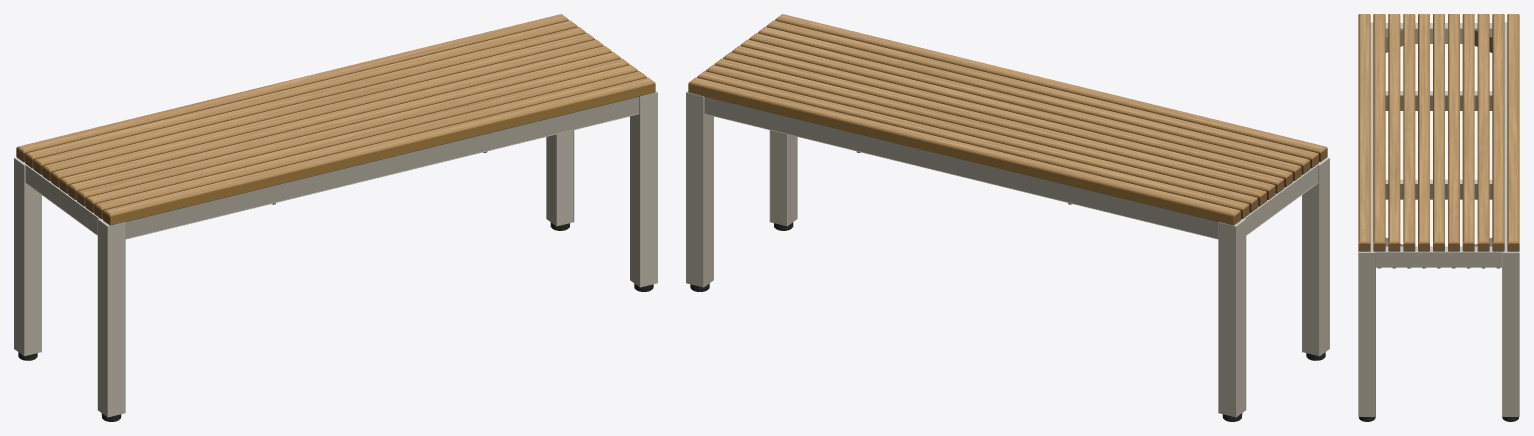
Rendered from snowpeak-garden-bench.glb.
3 views of the same model, side by side, from view 1: azimuth 30°, elevation 25°; view 2: azimuth 150°, elevation 25°; view 3: azimuth 270°, elevation 25° (orthographic). The views are drawn at different scales.
Parts seen in each view (by area): view 1: snowpeak-garden-bench-wood, snowpeak-garden-bench-edge, snowpeak-garden-bench-metal, snowpeak-garden-bench-rail, snowpeak-garden-bench-metal_side, snowpeak-garden-bench-side, snowpeak-garden-bench-face, snowpeak-garden-bench-metal_hi, snowpeak-garden-bench-end; view 2: snowpeak-garden-bench-wood, snowpeak-garden-bench-edge, snowpeak-garden-bench-metal, snowpeak-garden-bench-rail, snowpeak-garden-bench-metal_side, snowpeak-garden-bench-side, snowpeak-garden-bench-face, snowpeak-garden-bench-metal_hi, snowpeak-garden-bench-end; view 3: snowpeak-garden-bench-wood, snowpeak-garden-bench-edge, snowpeak-garden-bench-metal_side, snowpeak-garden-bench-lip, snowpeak-garden-bench-bar, snowpeak-garden-bench-end, snowpeak-garden-bench-metal_hi, snowpeak-garden-bench-face.
Part boxes in pixels (<box>): snowpeak-garden-bench-wood: <box>19,14,651,213</box>; snowpeak-garden-bench-edge: <box>16,14,655,216</box>; snowpeak-garden-bench-metal: <box>24,92,657,417</box>; snowpeak-garden-bench-rail: <box>125,97,639,238</box>; snowpeak-garden-bench-metal_side: <box>14,96,639,416</box>; snowpeak-garden-bench-side: <box>23,20,654,225</box>; snowpeak-garden-bench-face: <box>110,83,655,225</box>; snowpeak-garden-bench-metal_hi: <box>14,92,657,417</box>; snowpeak-garden-bench-end: <box>16,148,109,225</box>; snowpeak-garden-bench-wood: <box>692,14,1324,213</box>; snowpeak-garden-bench-edge: <box>688,14,1327,216</box>; snowpeak-garden-bench-metal: <box>686,92,1319,417</box>; snowpeak-garden-bench-rail: <box>704,97,1218,238</box>; snowpeak-garden-bench-metal_side: <box>704,96,1329,416</box>; snowpeak-garden-bench-side: <box>689,20,1320,225</box>; snowpeak-garden-bench-face: <box>688,83,1233,225</box>; snowpeak-garden-bench-metal_hi: <box>686,92,1329,417</box>; snowpeak-garden-bench-end: <box>1234,148,1327,225</box>; snowpeak-garden-bench-wood: <box>1360,14,1517,241</box>; snowpeak-garden-bench-edge: <box>1358,14,1519,243</box>; snowpeak-garden-bench-metal_side: <box>1359,28,1518,416</box>; snowpeak-garden-bench-lip: <box>1358,22,1519,252</box>; snowpeak-garden-bench-bar: <box>1385,29,1492,246</box>; snowpeak-garden-bench-end: <box>1358,243,1519,251</box>; snowpeak-garden-bench-metal_hi: <box>1358,251,1519,416</box>; snowpeak-garden-bench-face: <box>1358,15,1519,250</box>.
Size of the model in its own units: 1.21 by 0.4402 by 0.3584.
14 materials, 1 textured.
